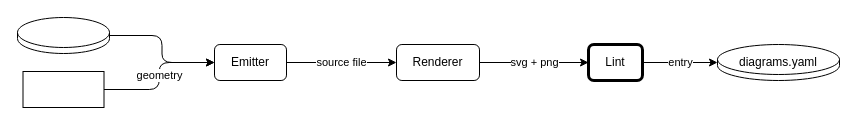
Image size: 857x125. Some labels were removed from this diagram. Here are the shapes that lost their labels. From the top down, the centre of each, then its label:
[63,35]: .spec.yaml
[63,89]: Graphviz
